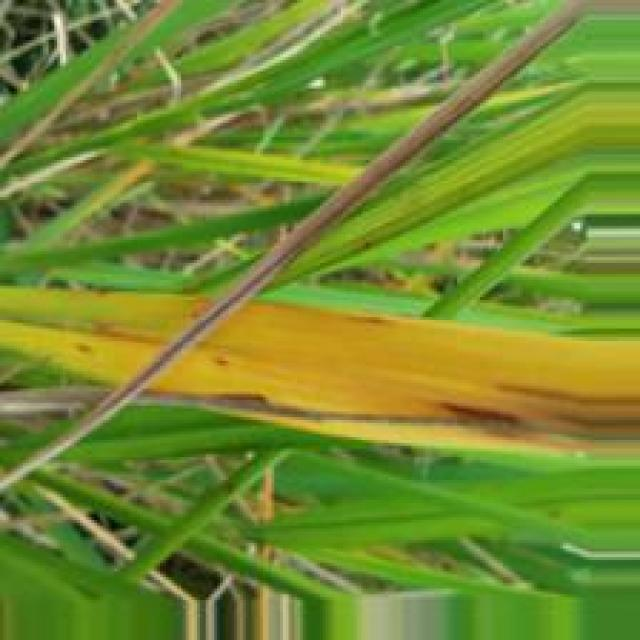Narrow_Brown_Leaf_Spot: (144, 379, 640, 442)
